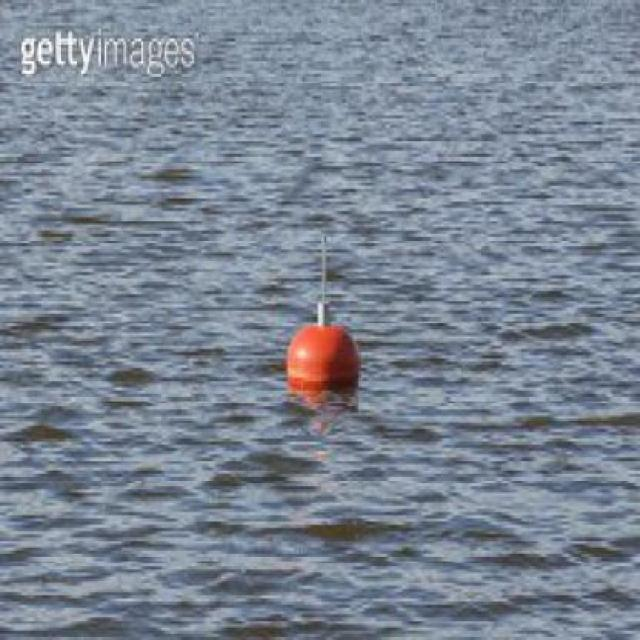a: (280, 219, 368, 400)
